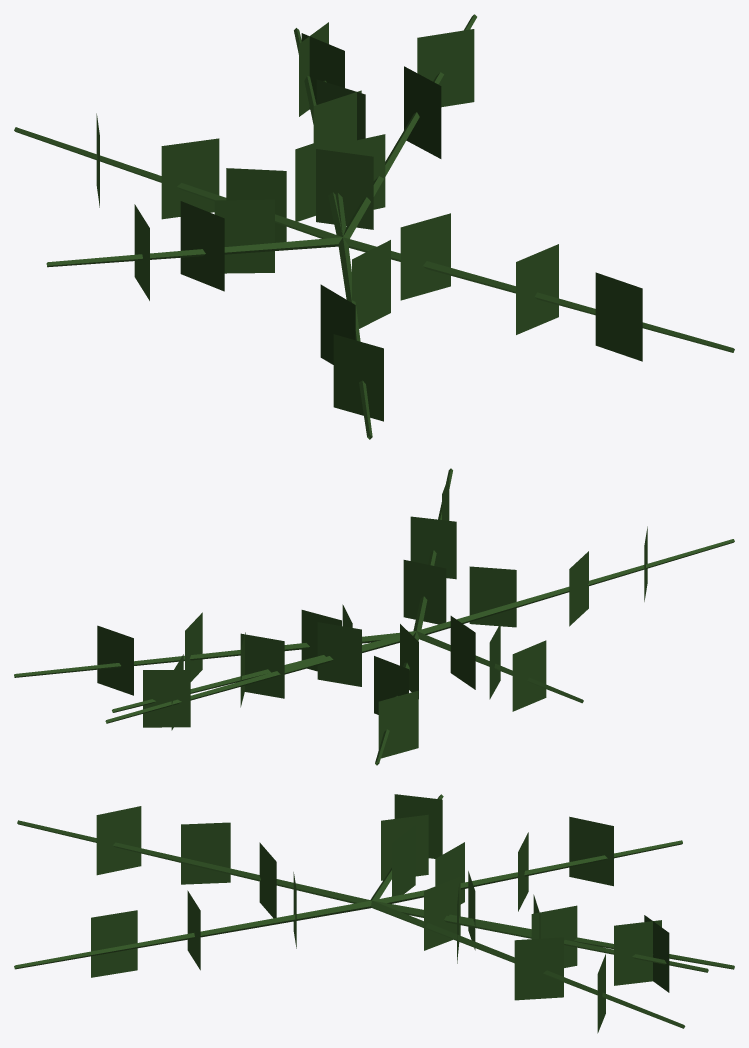
Rendered from ground_vines_creeper.obj.
The picture shows the model from 3 angles, top to bottom: view 1: azimuth 30°, elevation 25°; view 2: azimuth 150°, elevation 25°; view 3: azimuth 270°, elevation 25°; orthographic projection. The views are drawn at different scales.
Parts seen in each view (by area): view 1: ground_vines_creeper; view 2: ground_vines_creeper; view 3: ground_vines_creeper.
Boxes of the visible parts, <box> form: ground_vines_creeper: <box>14,14,734,439</box>; ground_vines_creeper: <box>14,468,734,765</box>; ground_vines_creeper: <box>14,794,734,1033</box>.
Size of the model in its own units: 1.32 by 0.16 by 1.74.
